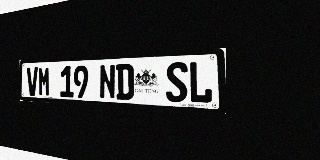1: (60, 66, 74, 98)
9: (74, 65, 88, 98)
D: (116, 64, 134, 100)
L: (189, 61, 213, 104)
M: (38, 66, 50, 96)
N: (99, 64, 116, 99)
S: (166, 62, 188, 103)
V: (27, 67, 38, 96)
